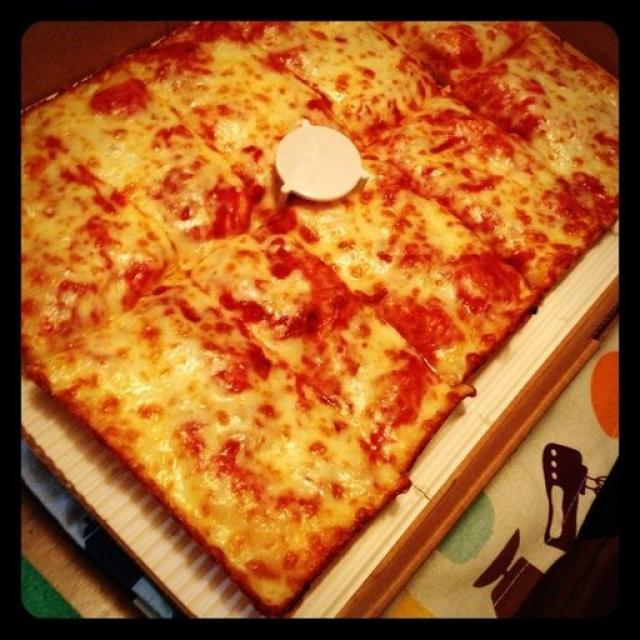Pizza: (22, 21, 619, 615)
